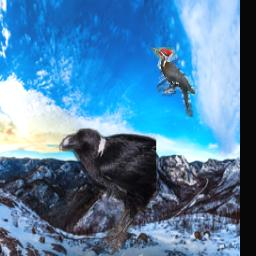Crow: (60, 127, 157, 254)
Woodpecker: (152, 48, 196, 118)
